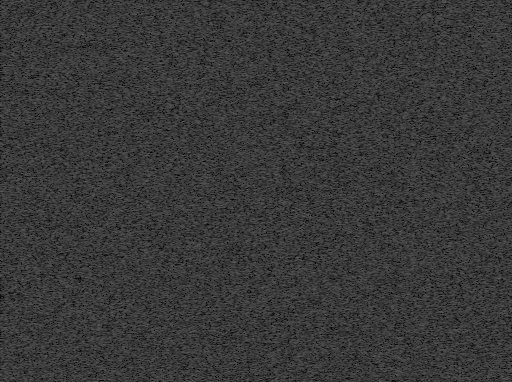wv_am: (206, 127, 211, 382), (206, 0, 211, 64), (206, 65, 211, 95), (206, 106, 211, 117), (206, 118, 211, 126), (206, 97, 211, 105)
wv_lsb: (414, 279, 419, 353), (414, 24, 419, 95), (414, 215, 419, 240), (414, 118, 419, 141), (414, 96, 419, 117), (414, 241, 419, 261), (414, 175, 419, 195), (415, 154, 419, 173), (414, 354, 419, 369), (414, 370, 419, 382), (414, 142, 419, 153), (414, 268, 419, 278), (414, 205, 419, 214), (415, 196, 419, 204), (439, 122, 443, 130), (439, 209, 443, 216), (439, 201, 443, 208), (415, 10, 418, 18), (439, 372, 443, 377), (415, 3, 418, 9), (439, 378, 443, 382), (439, 131, 443, 135), (415, 264, 419, 267), (415, 19, 418, 23), (439, 368, 443, 371)
wv_wbfm: (16, 0, 25, 382)
